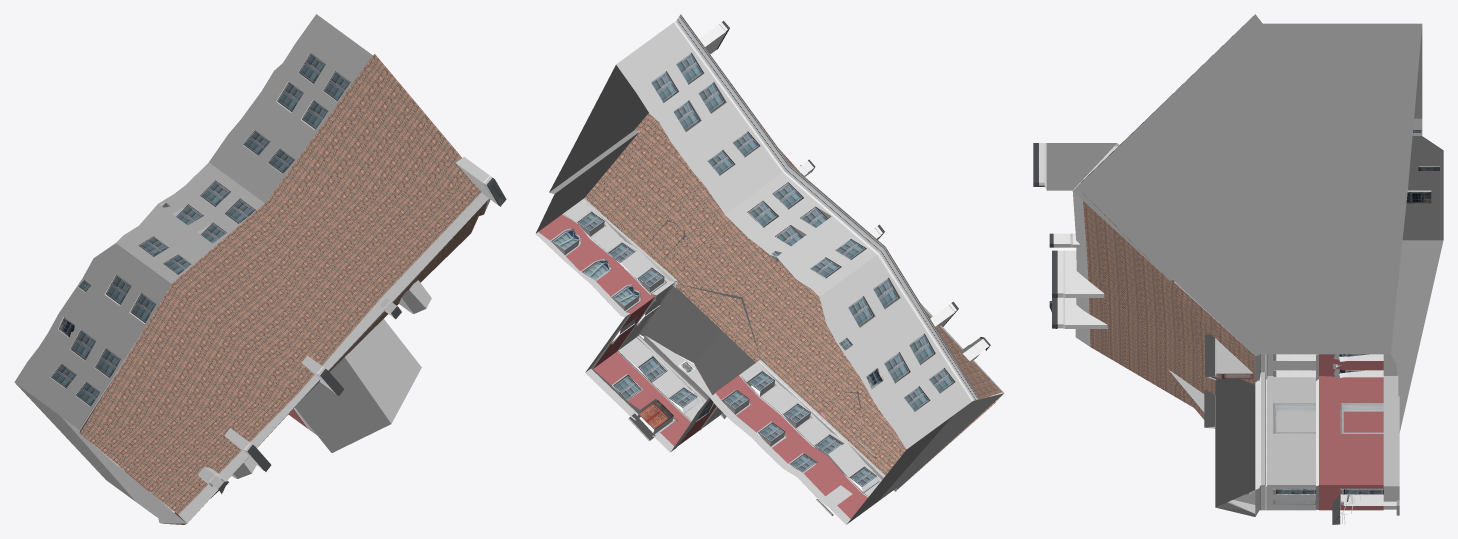
File: Kiriku-6_1-origo.obj
3 views of the same model, side by side, from view 1: azimuth 30°, elevation 25°; view 2: azimuth 150°, elevation 25°; view 3: azimuth 270°, elevation 25° (orthographic). The views are drawn at different scales.
Visible parts, largest first — view 1: Kiriku_6_1; view 2: Kiriku_6_1; view 3: Kiriku_6_1.
Boxes of the visible parts, box(x1,y1,x2,y2) form: Kiriku_6_1: box(14, 14, 506, 524); Kiriku_6_1: box(535, 14, 1004, 524); Kiriku_6_1: box(1033, 14, 1443, 524).
Size of the model in its own units: 35.25 by 36 by 23.41.
